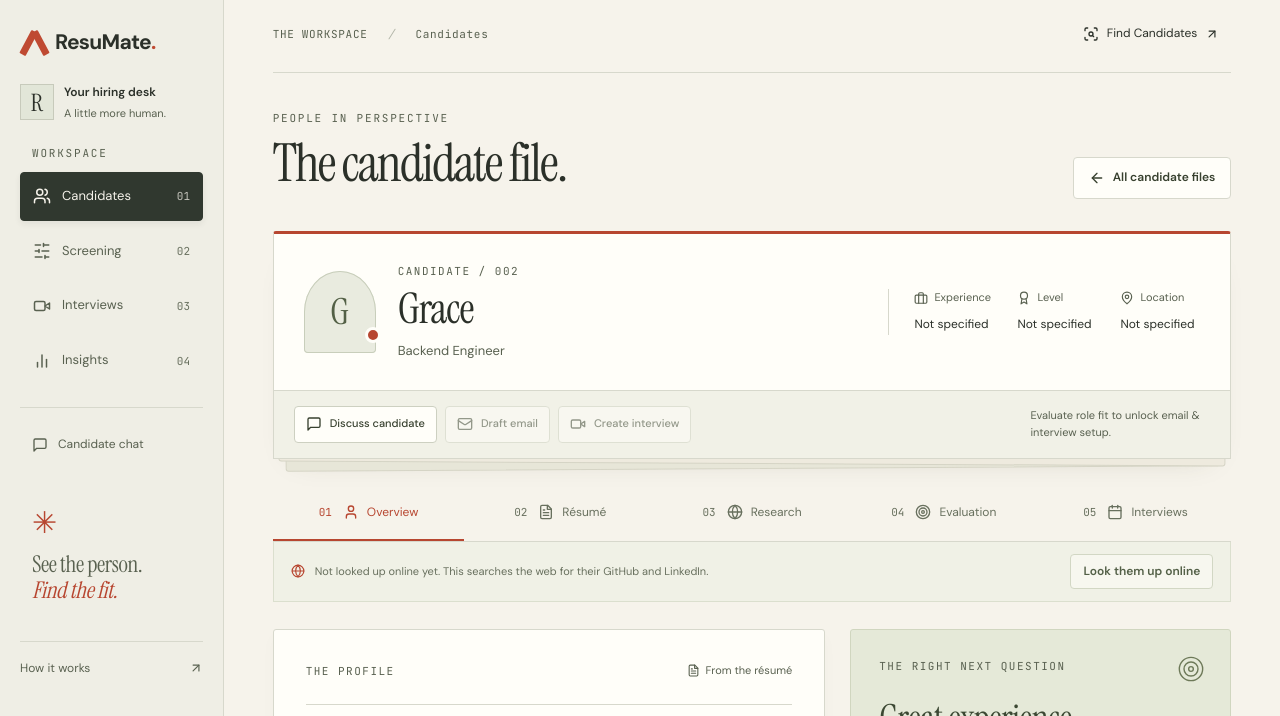
Test: the candidate file, from a link › goes back to the list, and the address no longer opens the file
This screenshot has width=1280, height=716.
Click the button "All candidate files" at (1152, 178), box left=1073, top=157, right=1231, bottom=199
(page scrolled)
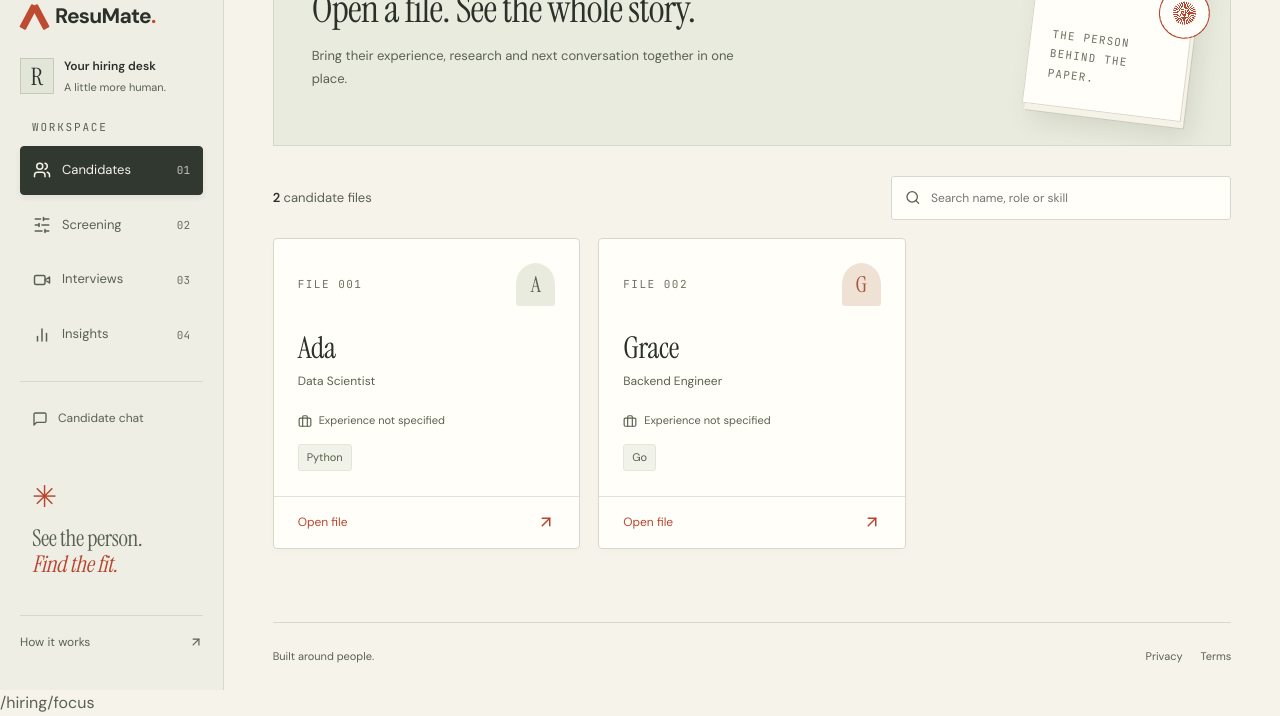
Check: the text with test id "address" reads "/hiring/focus", box left=0, top=692, right=94, bottom=713
